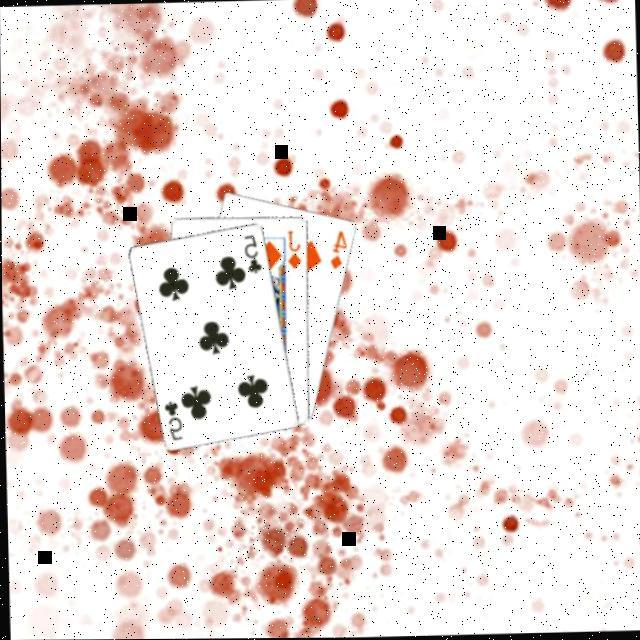4D: (328, 227, 351, 271)
5C: (161, 397, 186, 443), (242, 231, 266, 276)
JD: (285, 228, 306, 272)
